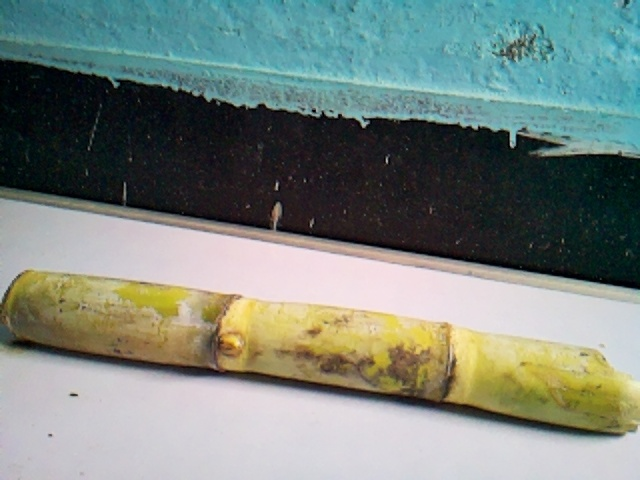Good Sugarcane: (1, 267, 640, 437)
Node: (418, 318, 481, 410), (199, 287, 260, 377)
